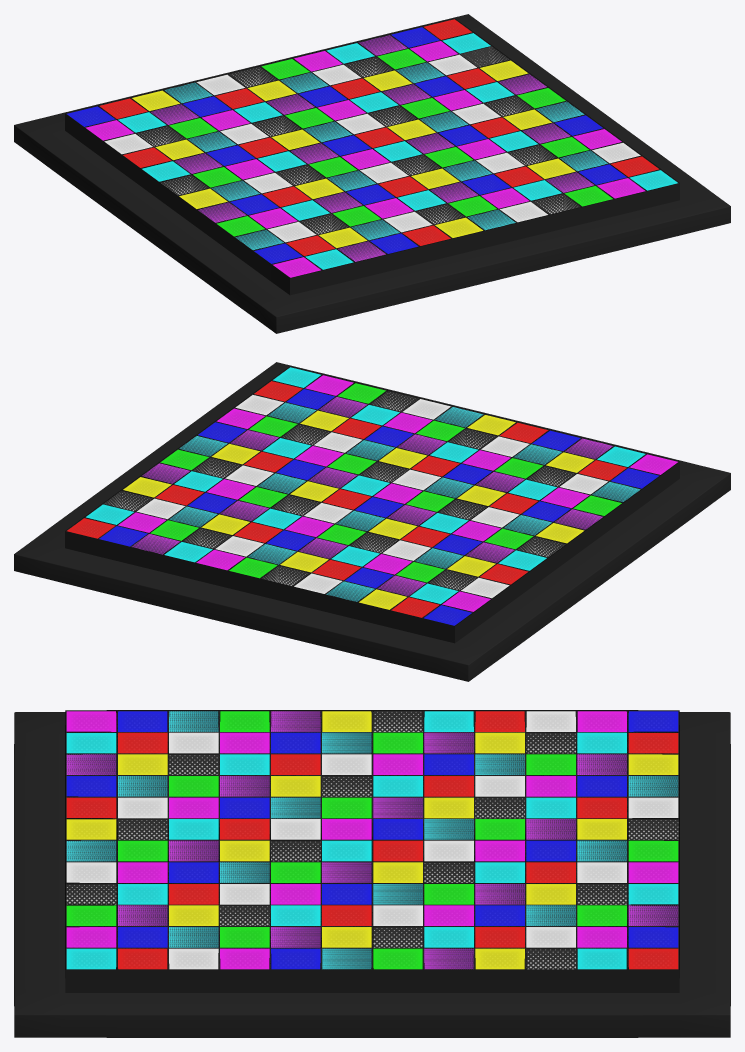
The model's file is dancefloor.glb.
The picture shows the model from 3 angles, top to bottom: view 1: azimuth 30°, elevation 25°; view 2: azimuth 150°, elevation 25°; view 3: azimuth 270°, elevation 25°; orthographic projection. The views are drawn at different scales.
Visible parts, largest first — view 1: Base, Color1; view 2: Base, Color1; view 3: Base, Color1.
Boxes of the visible parts, x1,y1,x2,y2 form: Base: (14,14,730,333); Color1: (67,19,677,277); Base: (14,362,730,681); Color1: (67,367,677,625); Base: (14,710,730,1037); Color1: (66,711,678,969).
Size of what is drawn, in the model's own units: 7.02 by 0.5 by 7.02.
Materials: 12 (10 with a texture image).
